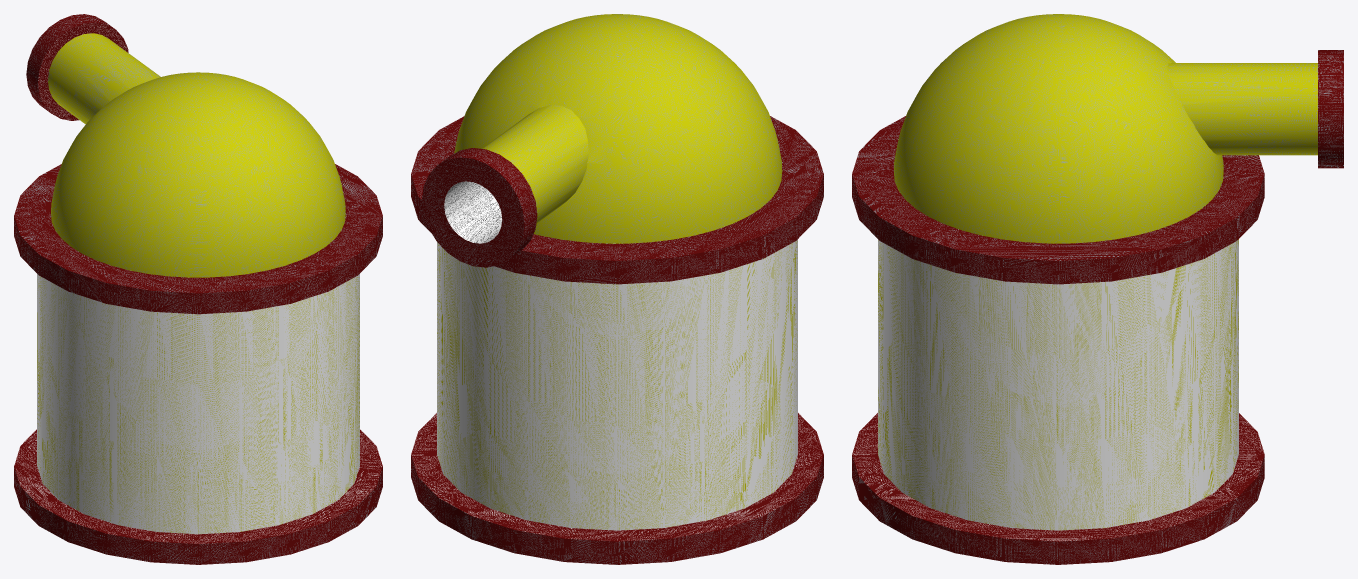
The model's file is TrashCanon 1.dae.
3 renders of one model, left to right at view 1: azimuth 30°, elevation 25°; view 2: azimuth 150°, elevation 25°; view 3: azimuth 270°, elevation 25°, orthographic. The views are drawn at different scales.
Parts seen in each view (by area): view 1: SketchUp (×5); view 2: SketchUp (×6); view 3: SketchUp (×5).
Part boxes in pixels (x1,y1,x2,y2): SketchUp (×5): (14,14,382,564); SketchUp (×6): (411,14,823,564); SketchUp (×5): (852,14,1343,564).
Bounding box in the file's own units: 6.3 × 7.51 × 7.55.
